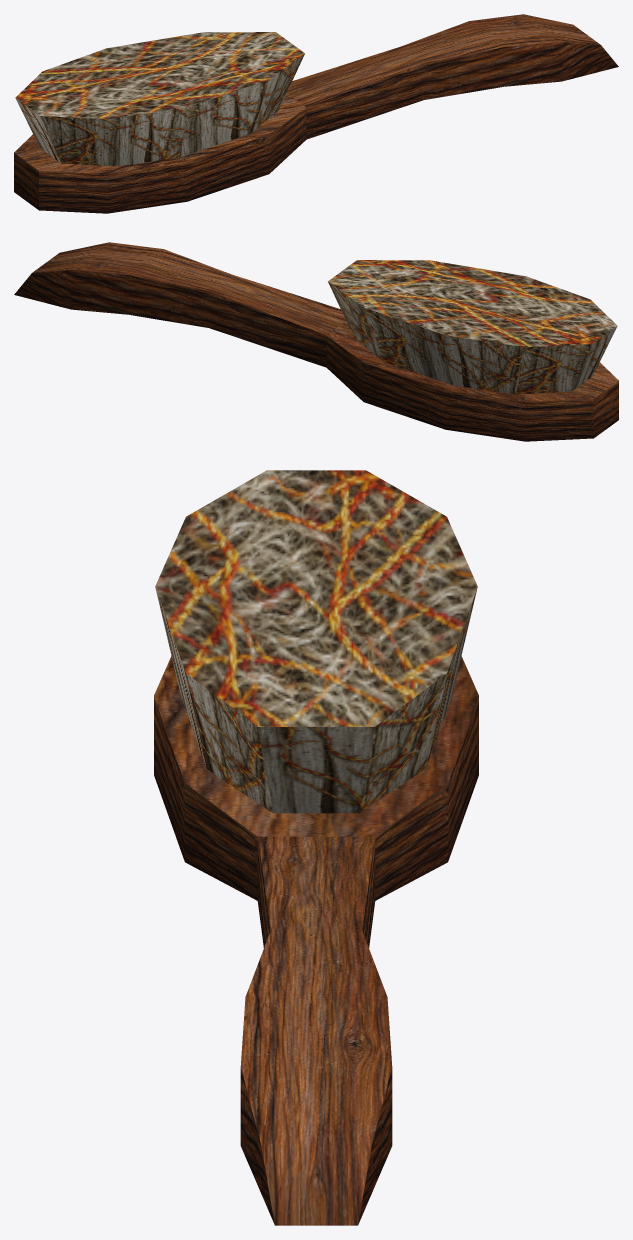
Rendered from mm9_deco_hairbrush.glb.
The picture shows the model from 3 angles, top to bottom: view 1: azimuth 30°, elevation 25°; view 2: azimuth 150°, elevation 25°; view 3: azimuth 270°, elevation 25°; orthographic projection. The views are drawn at different scales.
Visible parts, largest first — view 1: Hairbrush; view 2: Hairbrush; view 3: Hairbrush.
Part boxes in pixels (x1,y1,x2,y2): Hairbrush: [14, 14, 618, 213]; Hairbrush: [14, 242, 618, 441]; Hairbrush: [154, 470, 478, 1225].
Bounding box in the file's own units: 0.5142 × 0.0794 × 0.1244.
2 materials, 2 textured.
